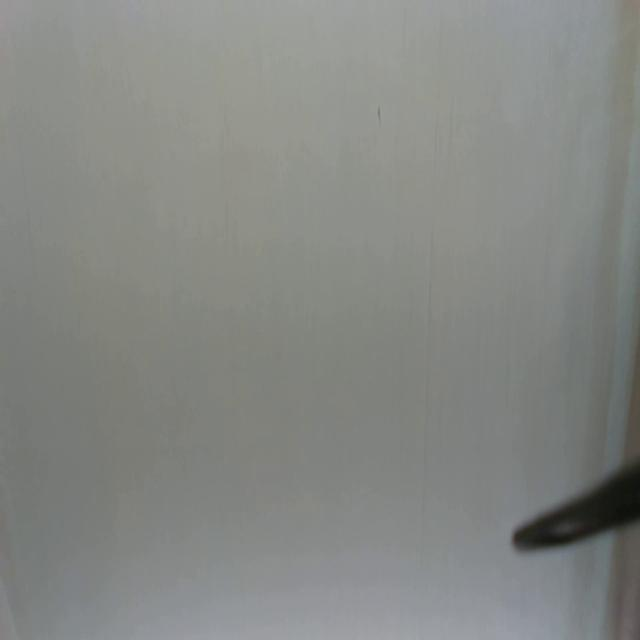crease: (420, 231, 435, 589)
hole: (377, 105, 383, 129)
